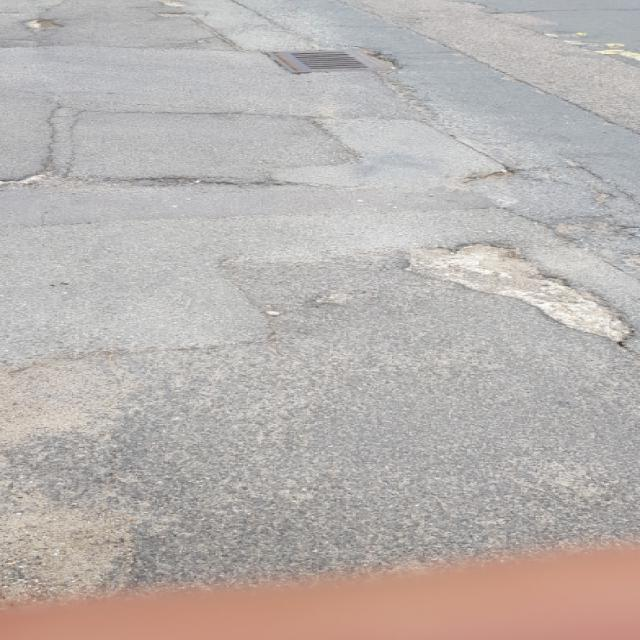Pothole: (394, 237, 639, 348)
